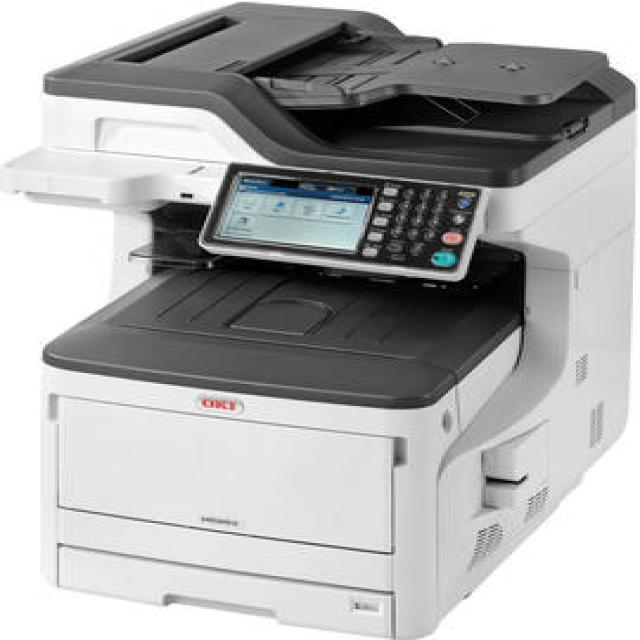printer: (0, 0, 635, 638)
